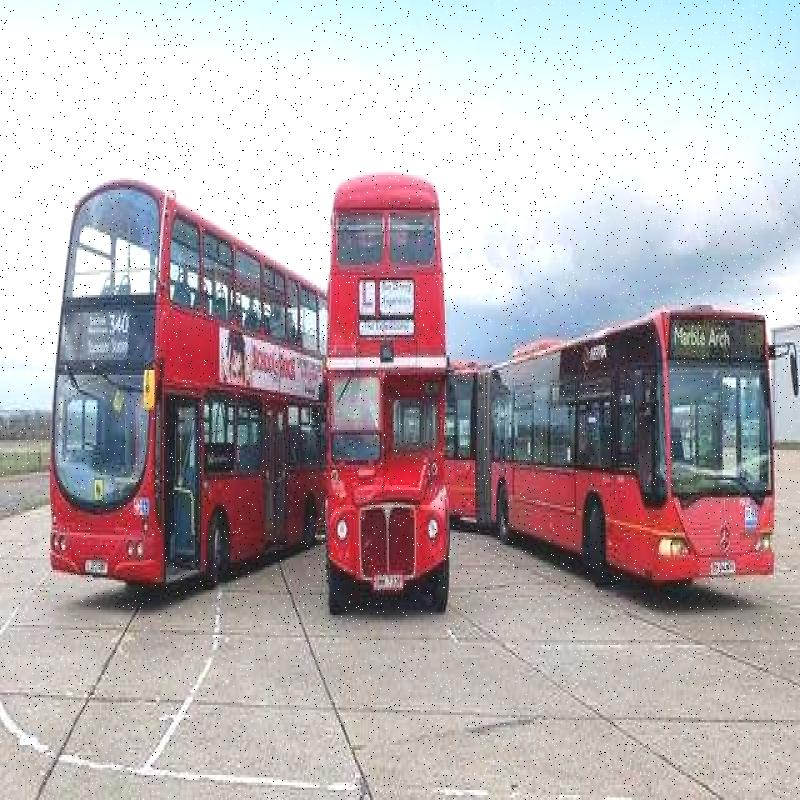bus: (516, 250, 800, 700), (316, 152, 484, 709), (57, 174, 216, 570)
